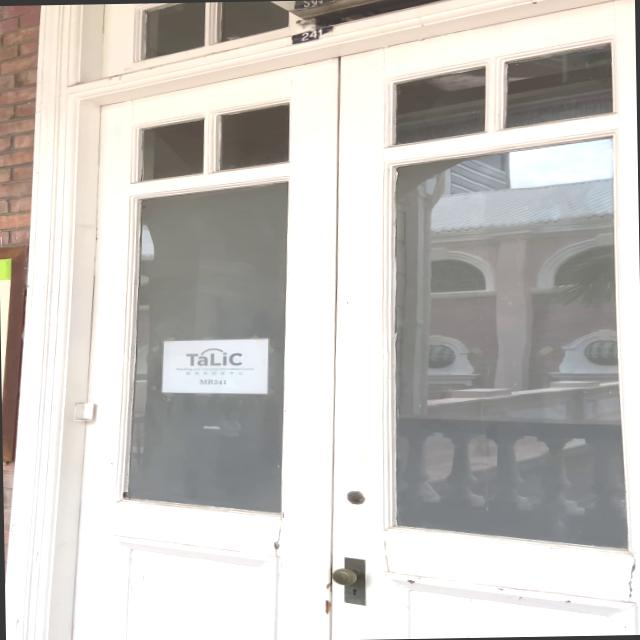room241: (287, 24, 335, 46)
